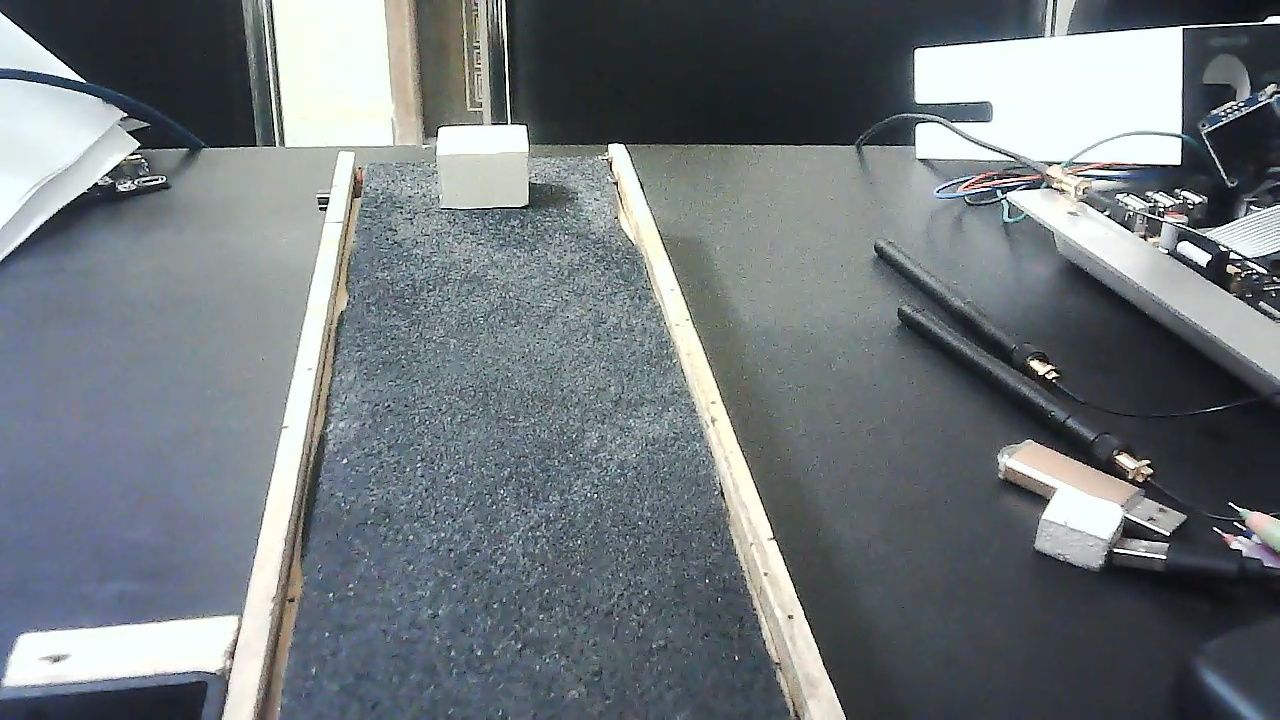Medium: (435, 117, 531, 213)
